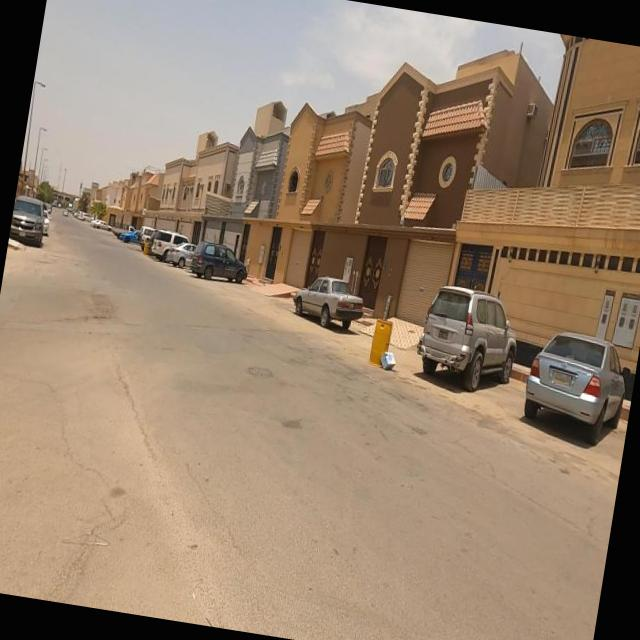debris: (354, 308, 425, 406)
